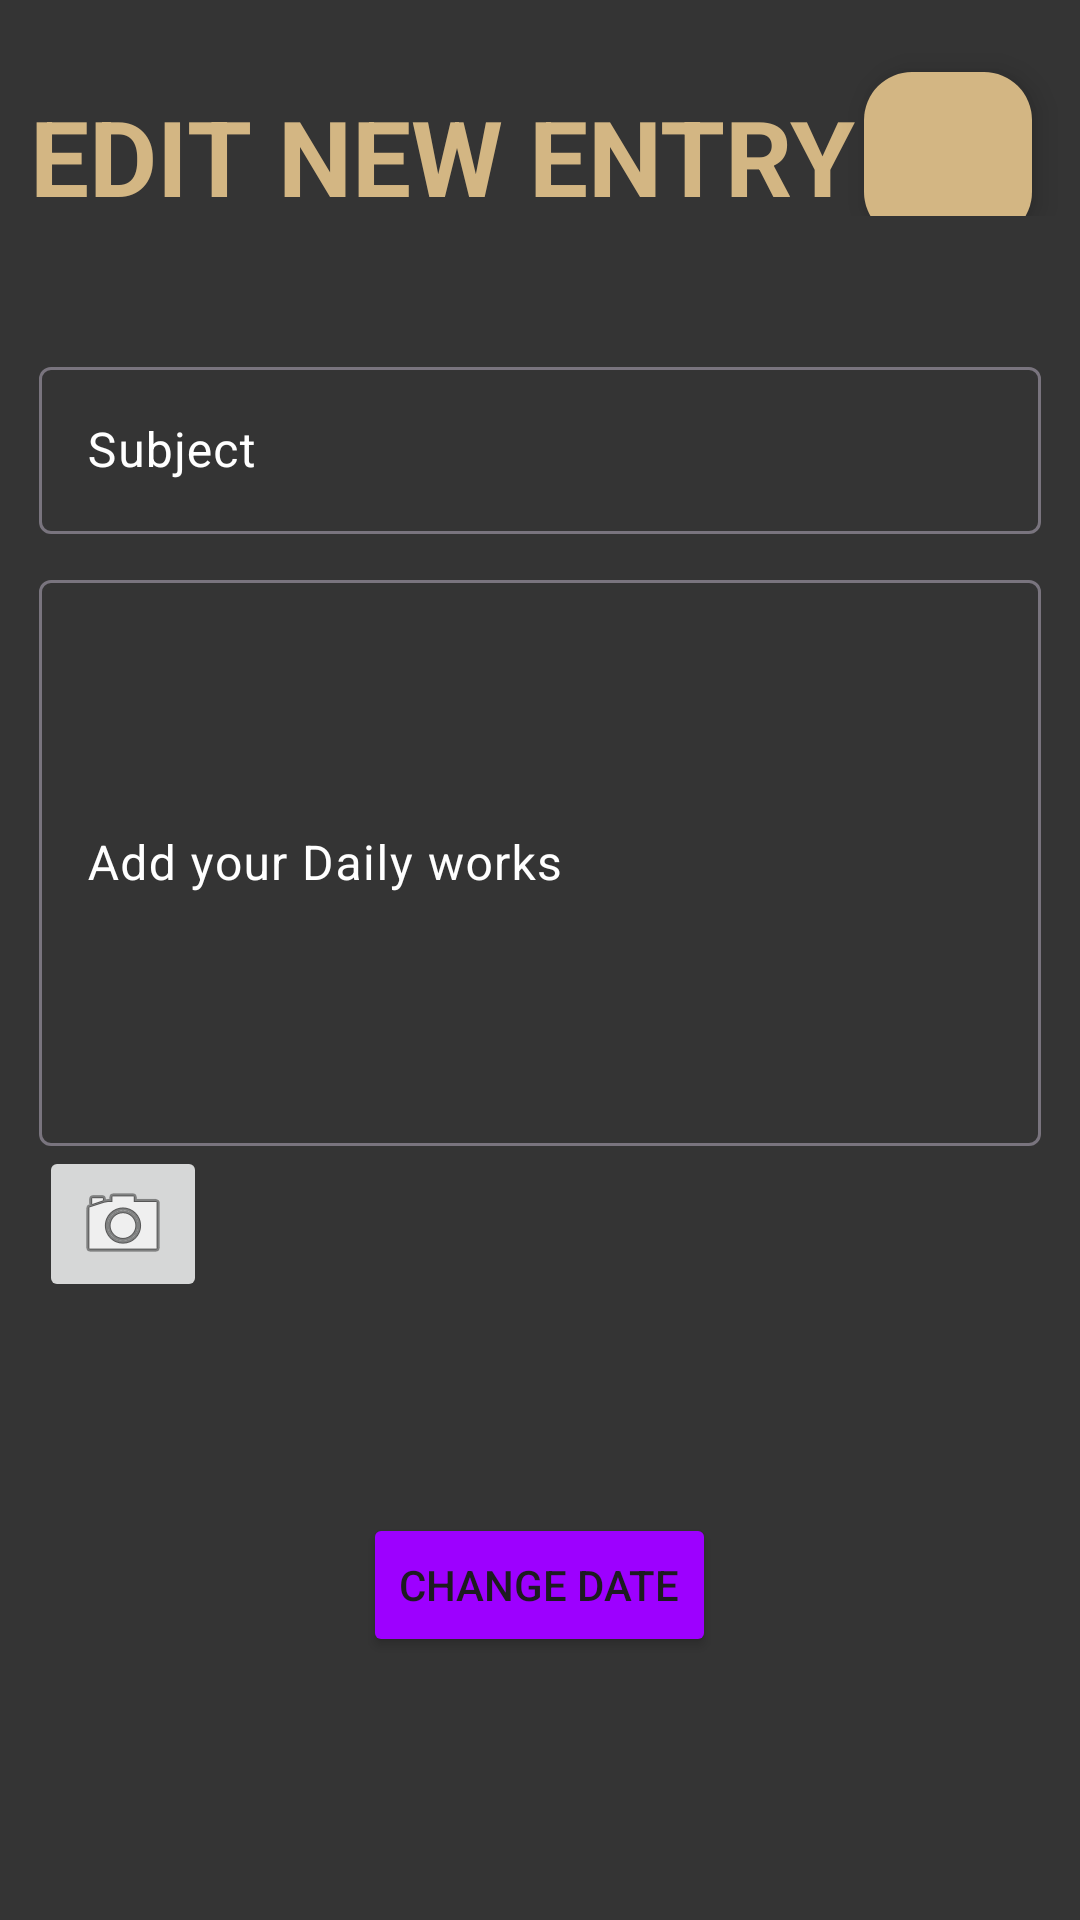

Where to tap for icons on this 1080×1920 app screen, as (x=x, y=y):
camera: (x=123, y=1224)
